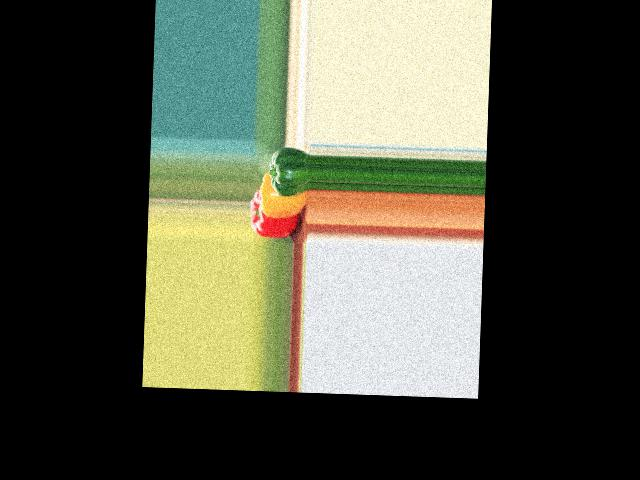bell_pepper: (249, 189, 306, 238)
